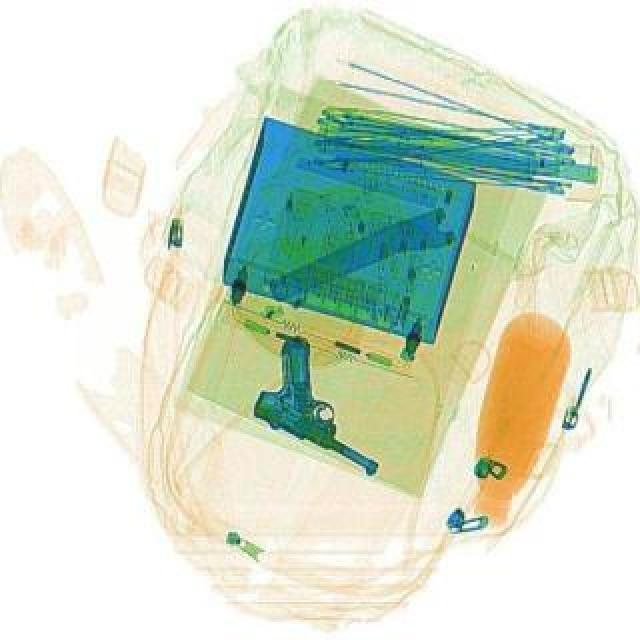gun: (236, 328, 420, 480)
